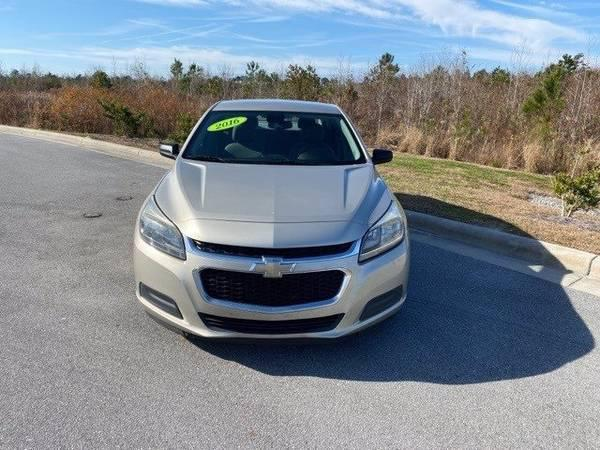Front_Bumper: (133, 238, 408, 338), (182, 237, 363, 273)
Front_Windshield: (180, 109, 367, 164)
Grille: (196, 267, 351, 314)
Hood: (156, 160, 393, 247)
Left_Headlight: (358, 194, 407, 265)
Left_Mirror: (372, 148, 394, 163)
Right_Headlight: (135, 193, 188, 263)
Right_Mirror: (158, 141, 179, 159)
Roof: (209, 96, 341, 112)
